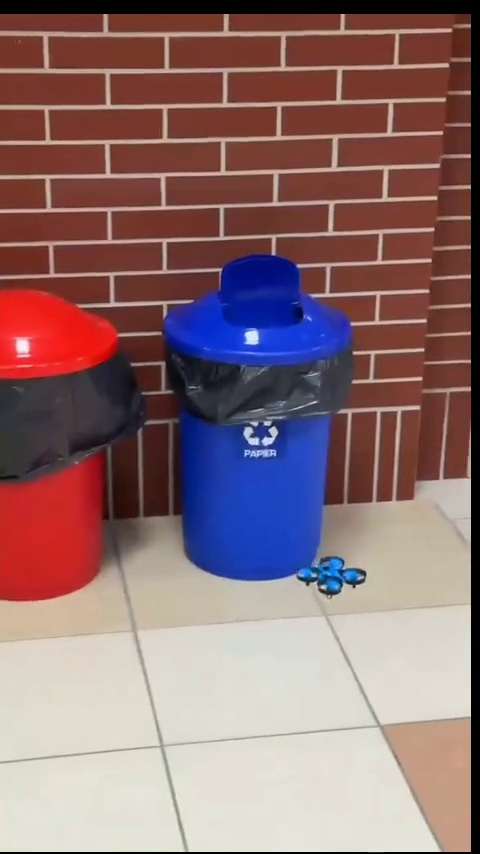drone: (295, 559, 372, 601)
